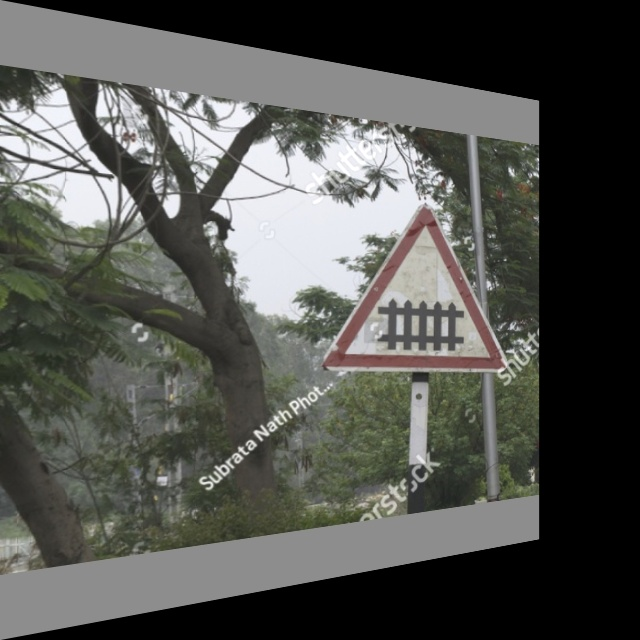Guarded_Level_Crossing: (326, 200, 508, 376)
